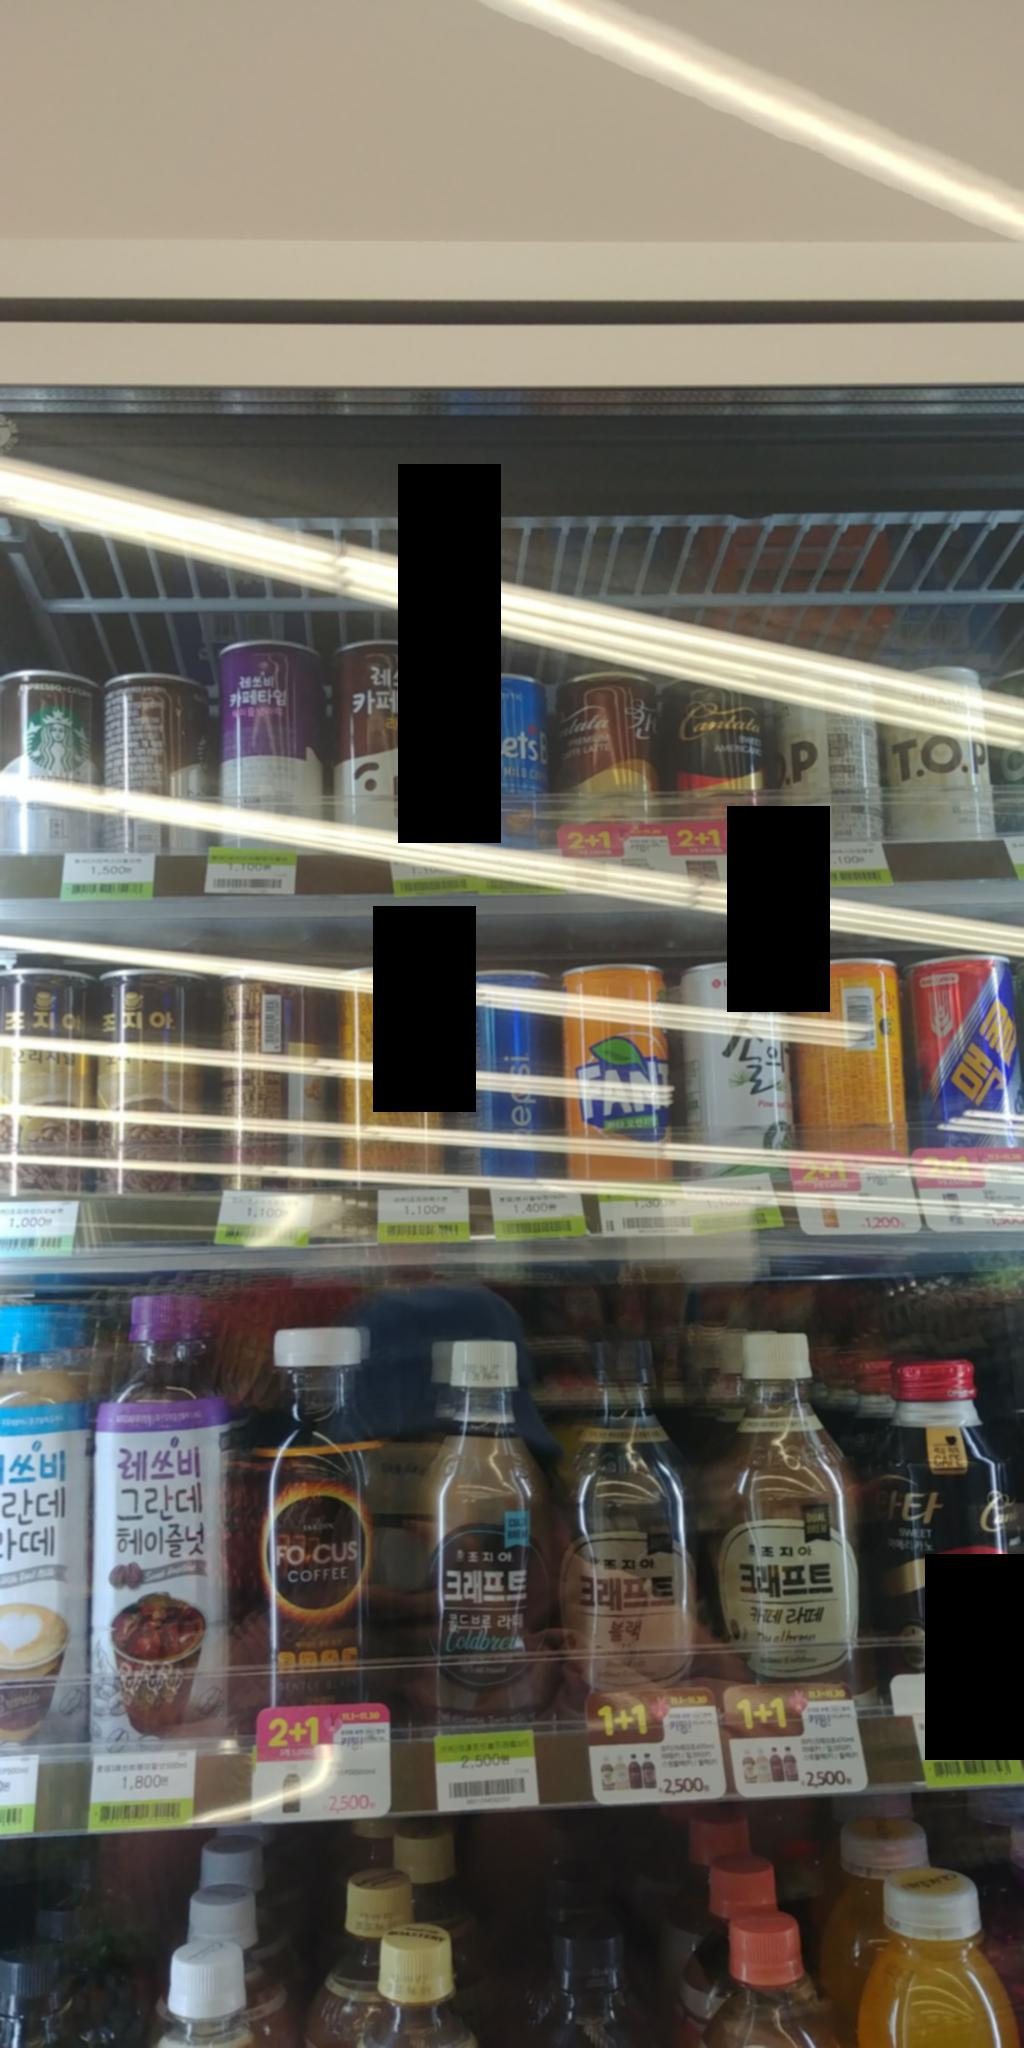georgiacraft_black: (539, 1327, 700, 1725)
letsbe: (424, 662, 568, 869)
letsbe_grande_hazelnut: (78, 1294, 253, 1759)
